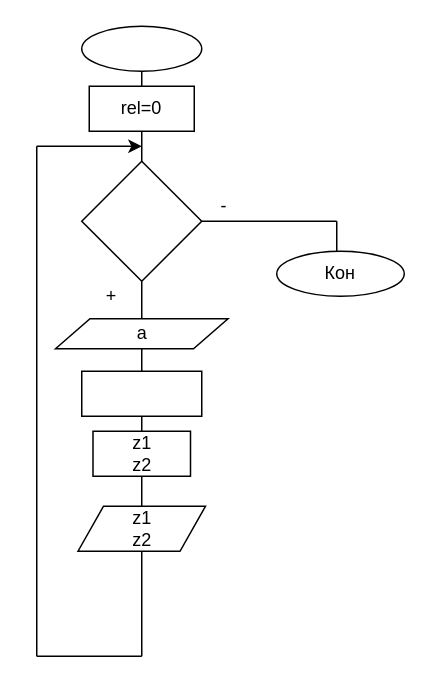
This 431x684 diagram has some shape labels left out. Here are the shapes that lost their labels. From the top down, the centre of each, then its label:
At (x=141, y=48): "Начало".
At (x=141, y=220): "while !=1".
At (x=141, y=393): "a=a*PI/180".
